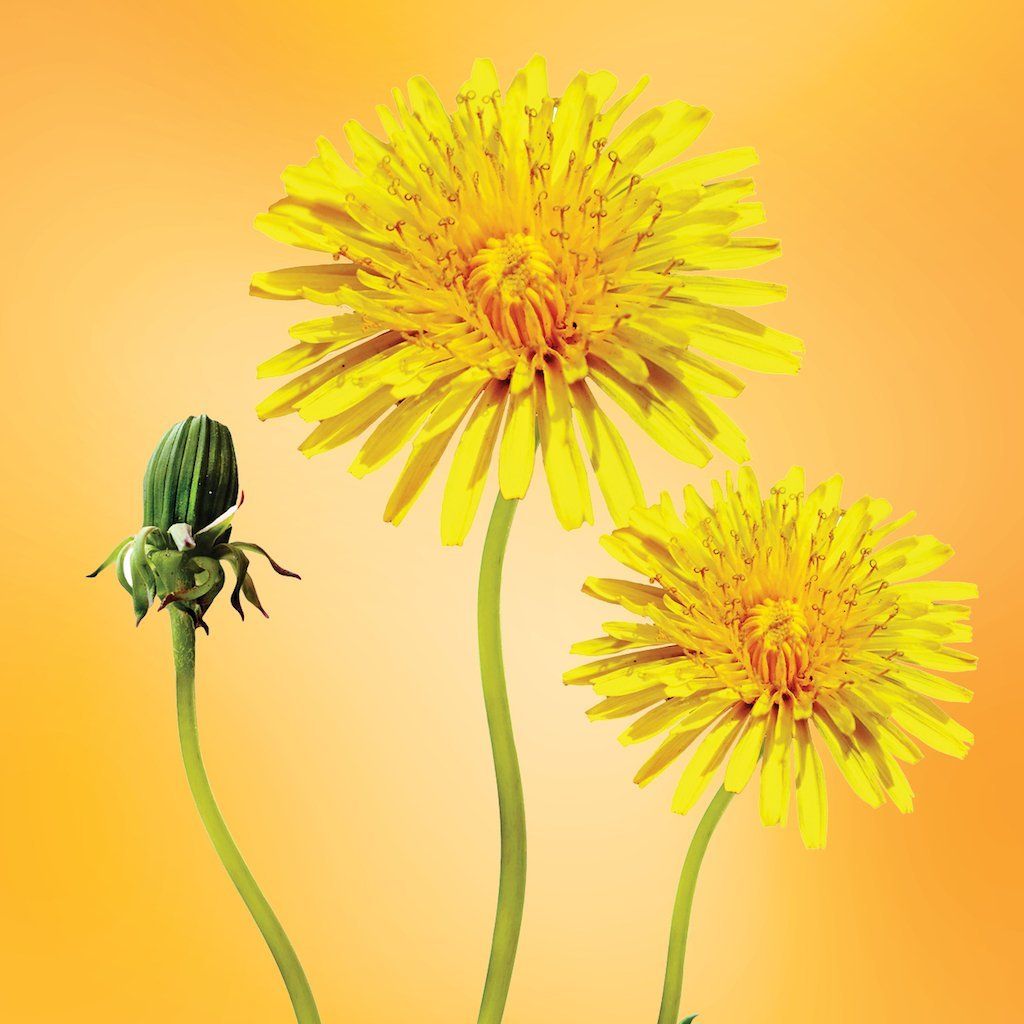dandelion: (287, 96, 740, 500), (635, 541, 917, 772)
